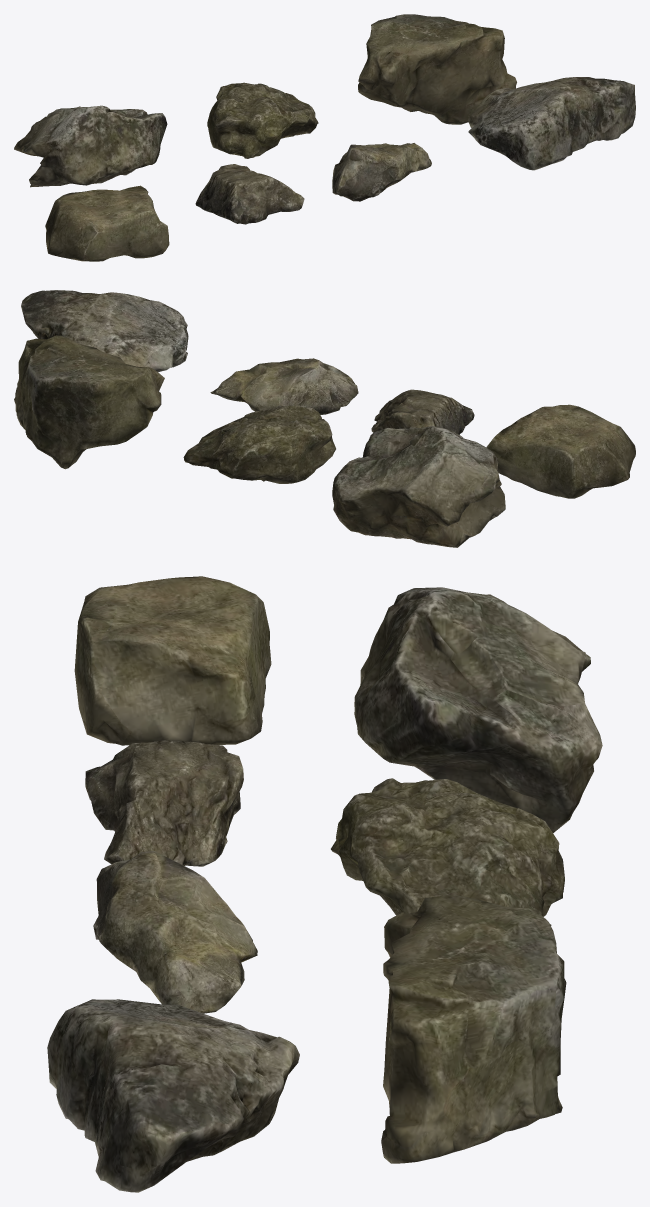
Rendered from rock_moss_set_02.glb.
3 renders of one model, top to bottom at view 1: azimuth 30°, elevation 25°; view 2: azimuth 150°, elevation 25°; view 3: azimuth 270°, elevation 25°, orthographic. The views are drawn at different scales.
Parts seen in each view (by area): view 1: rock_moss_set_02_rock08; view 2: rock_moss_set_02_rock08; view 3: rock_moss_set_02_rock08.
Part boxes in pixels (box(x1,y1,x2,y2)): rock_moss_set_02_rock08: box(14, 14, 635, 261); rock_moss_set_02_rock08: box(14, 290, 635, 547); rock_moss_set_02_rock08: box(47, 576, 602, 1192).
Size of the model in its own units: 8.28 by 1.37 by 3.41.
Materials: 1 (1 with a texture image).
